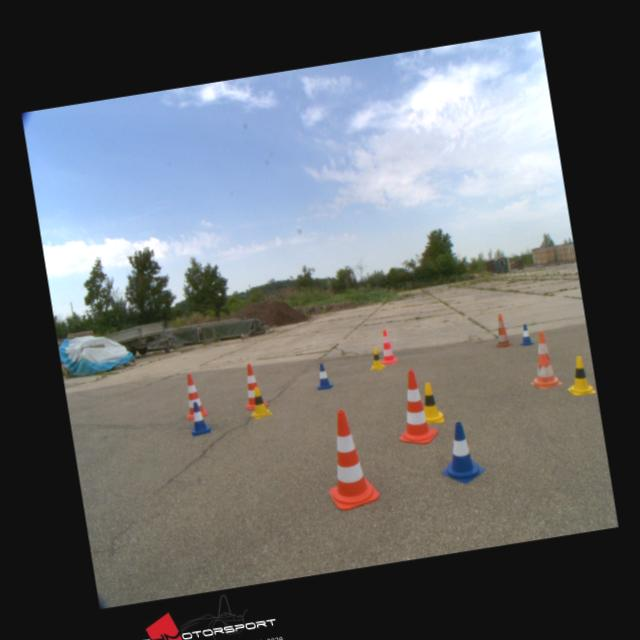blue_cone: (434, 418, 486, 486), (186, 400, 212, 436), (314, 362, 334, 390), (517, 323, 533, 345)
large_orange_cone: (316, 406, 381, 512), (388, 367, 439, 447), (523, 328, 562, 388), (238, 362, 268, 409), (180, 372, 208, 419), (378, 329, 398, 364), (491, 313, 511, 348)
yellow_cone: (562, 353, 594, 396), (418, 380, 444, 424), (246, 384, 274, 418), (366, 346, 384, 370)
